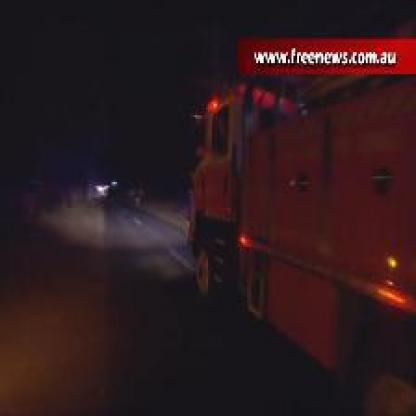other: (381, 251, 402, 312), (198, 88, 221, 112), (235, 230, 254, 257)
